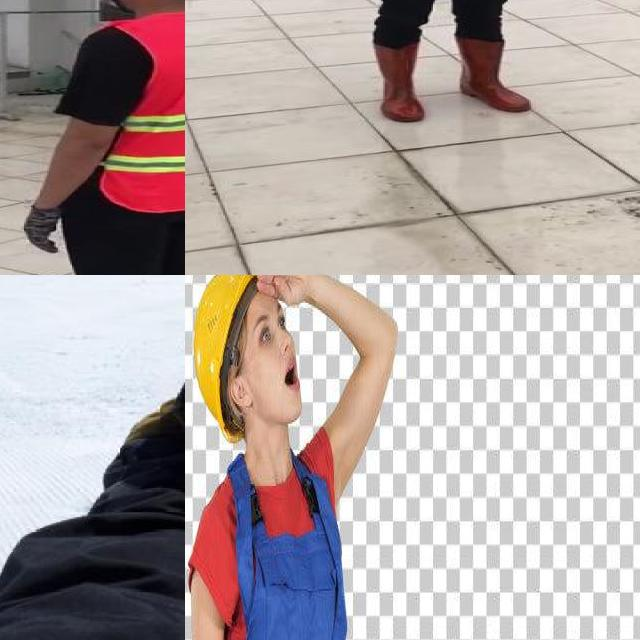No_Ear-Protection: (227, 372, 257, 419)
No_Glasses: (251, 299, 290, 355)
boots: (460, 34, 536, 116), (365, 42, 426, 124)
face_nomask: (263, 337, 303, 421)
hand_glove: (24, 203, 65, 253)
hand_noglove: (257, 275, 306, 305)
head_helmet: (194, 275, 254, 441)
person: (0, 275, 185, 640), (2, 0, 185, 275), (319, 0, 562, 125)
vest: (95, 13, 185, 212)
